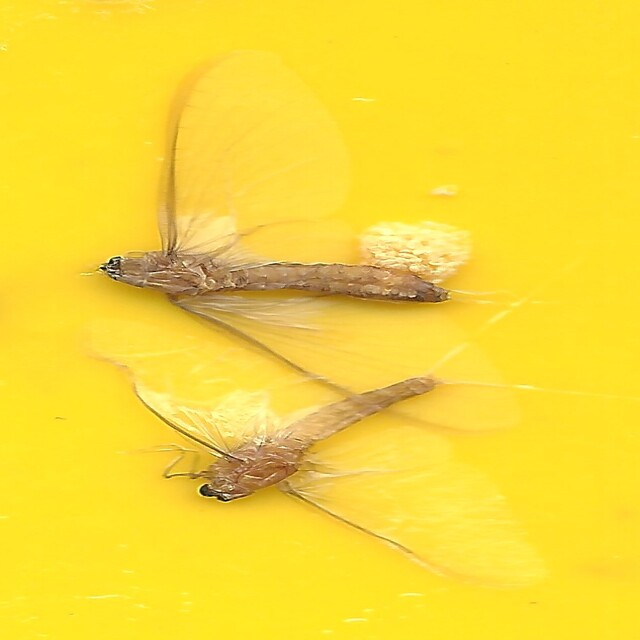Ephemeroptera: (101, 52, 508, 441), (114, 367, 539, 588)
